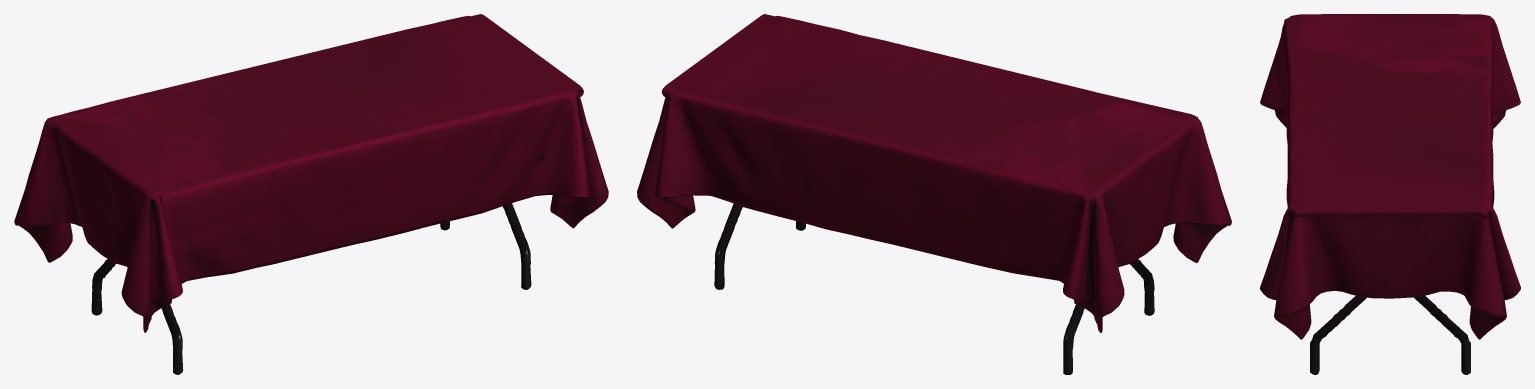
The model's file is BNQ_TBLE_BURGANDY_LIN_0630194150_texture.glb.
The picture shows the model from 3 angles, left to right: view 1: azimuth 30°, elevation 25°; view 2: azimuth 150°, elevation 25°; view 3: azimuth 270°, elevation 25°; orthographic projection. The views are drawn at different scales.
Parts seen in each view (by area): view 1: Mesh_0.003; view 2: Mesh_0.003; view 3: Mesh_0.003.
Boxes of the visible parts, <box> form: Mesh_0.003: <box>14,14,608,374</box>; Mesh_0.003: <box>637,14,1231,374</box>; Mesh_0.003: <box>1260,14,1520,374</box>.
Bounding box in the file's own units: 1.94 × 0.762 × 0.9774.
1 material, 1 textured.
